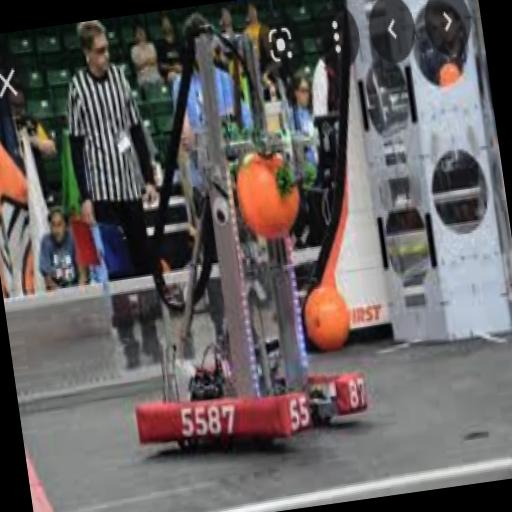robot: (80, 4, 372, 462)
